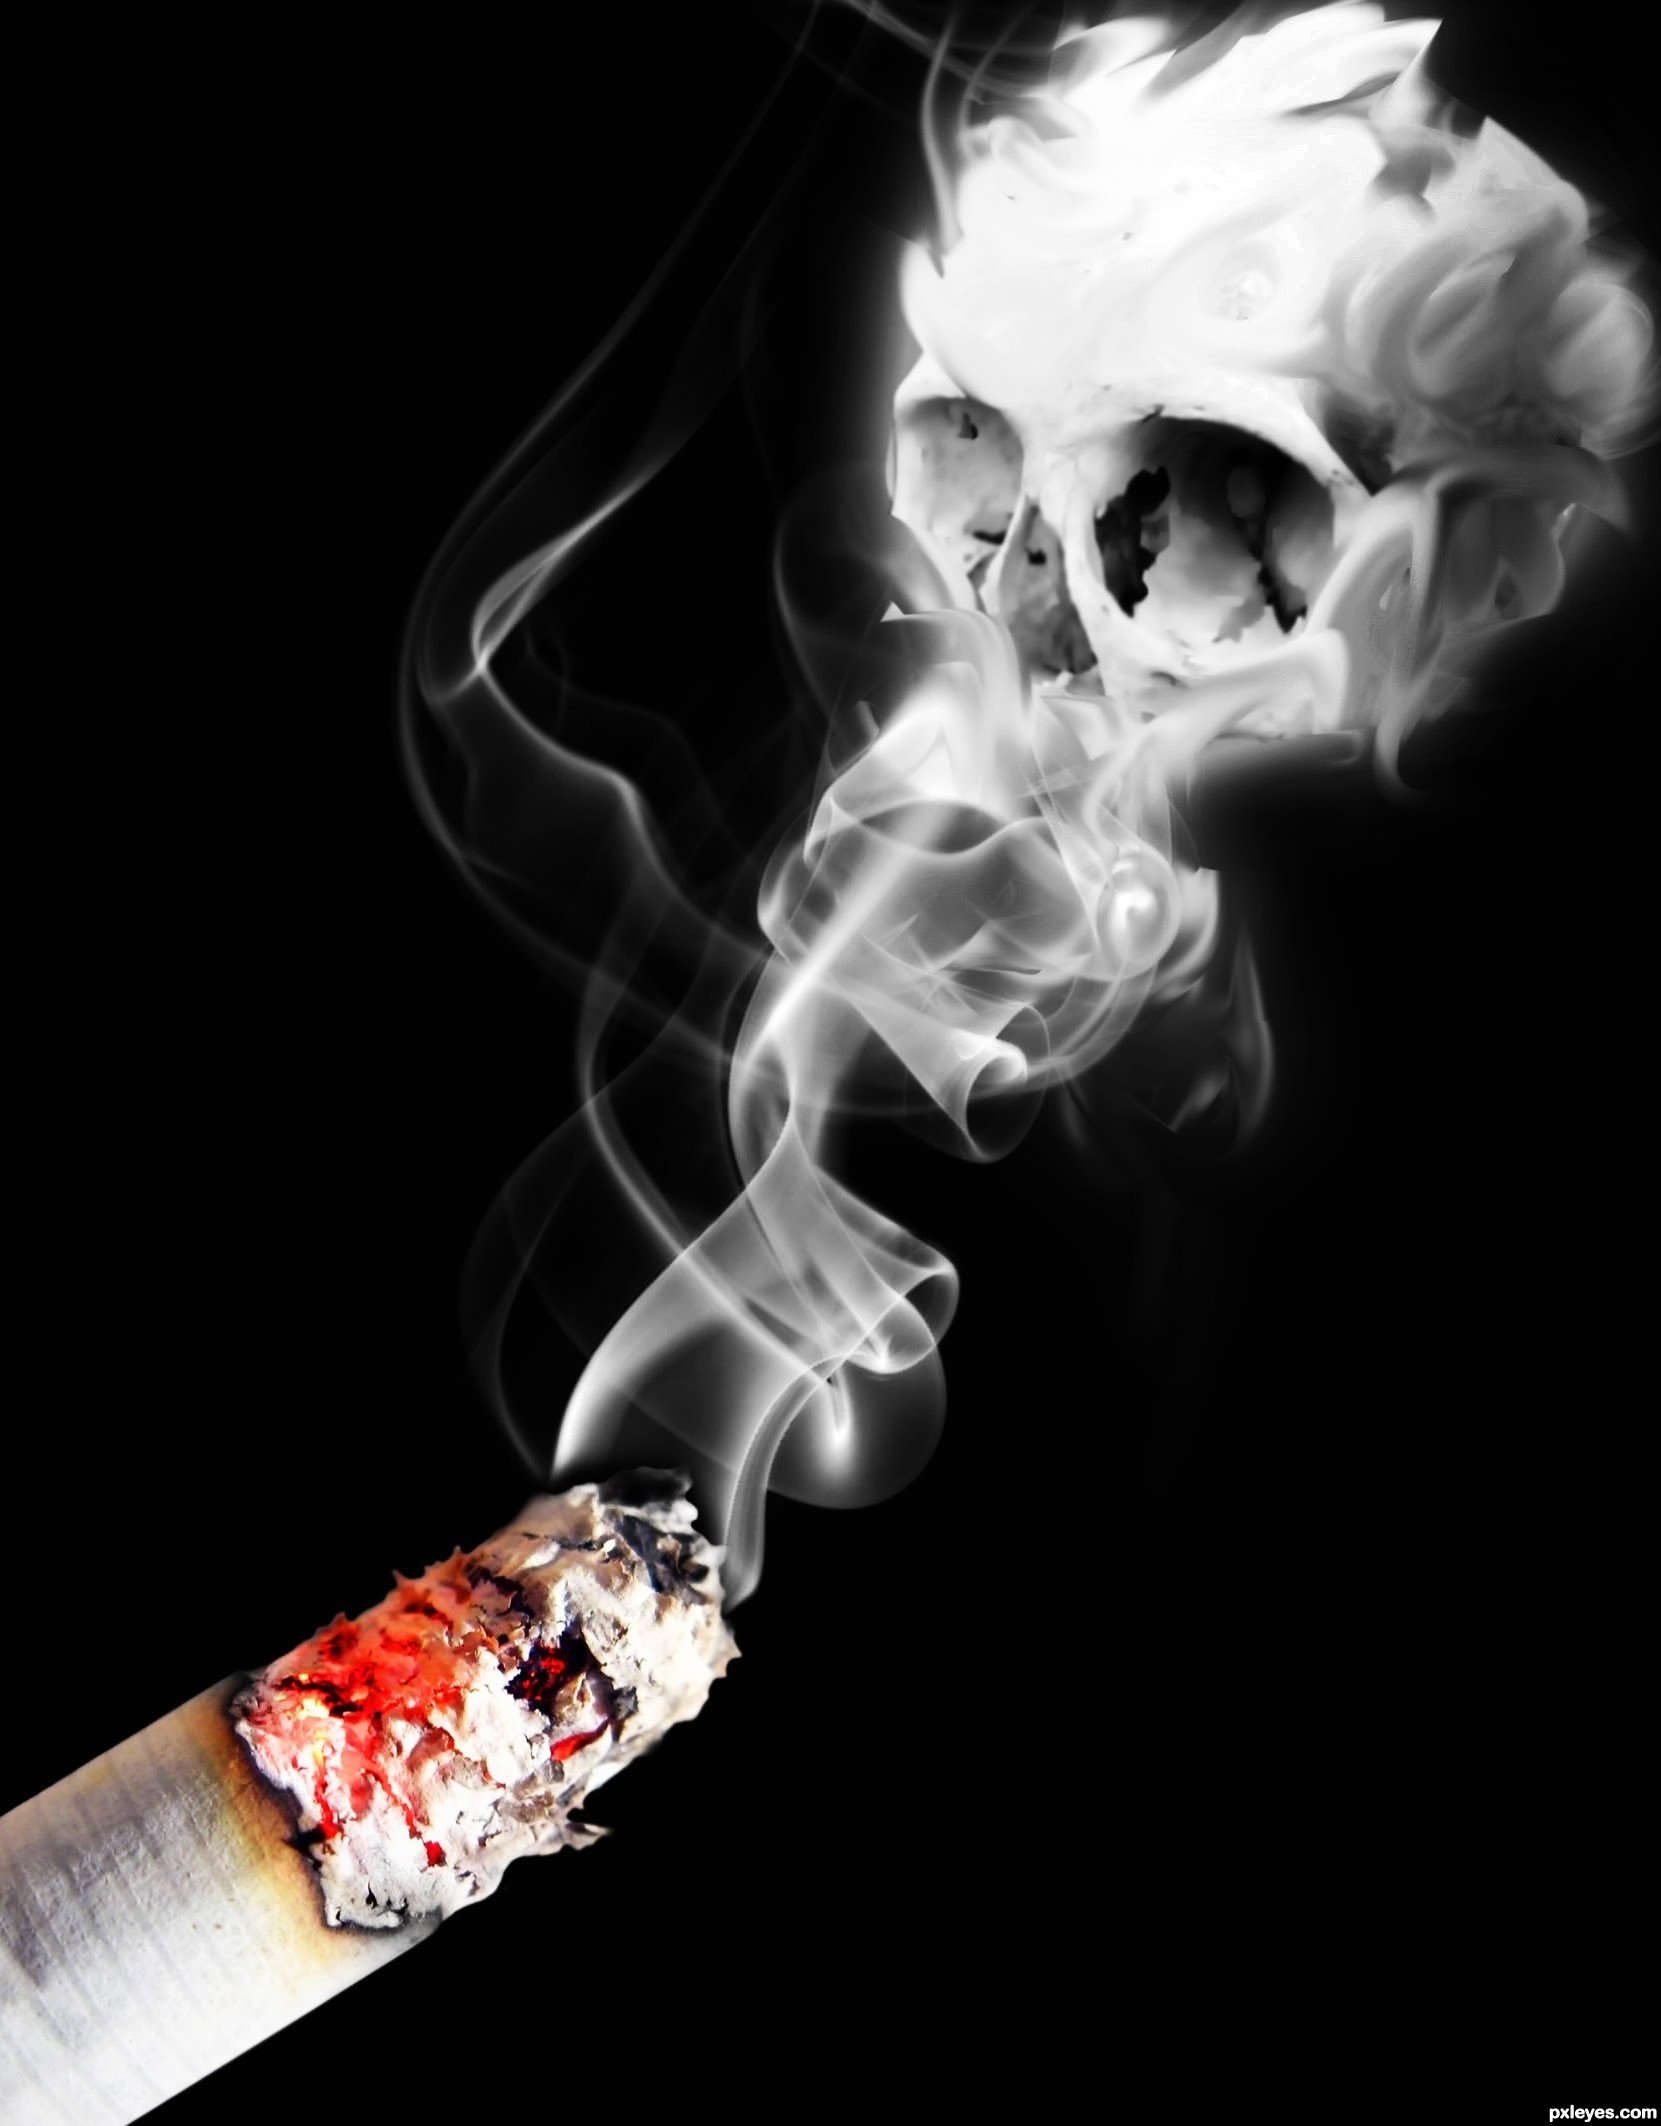cigarette: (2, 1439, 895, 2123)
